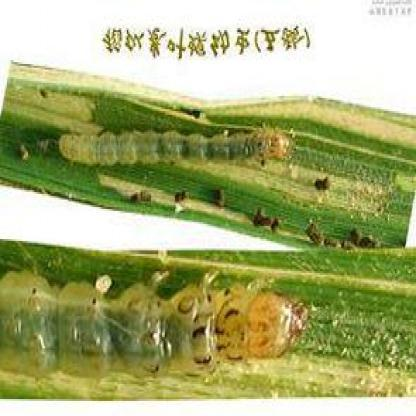leaf-folder: (0, 270, 320, 416), (57, 113, 304, 184)
